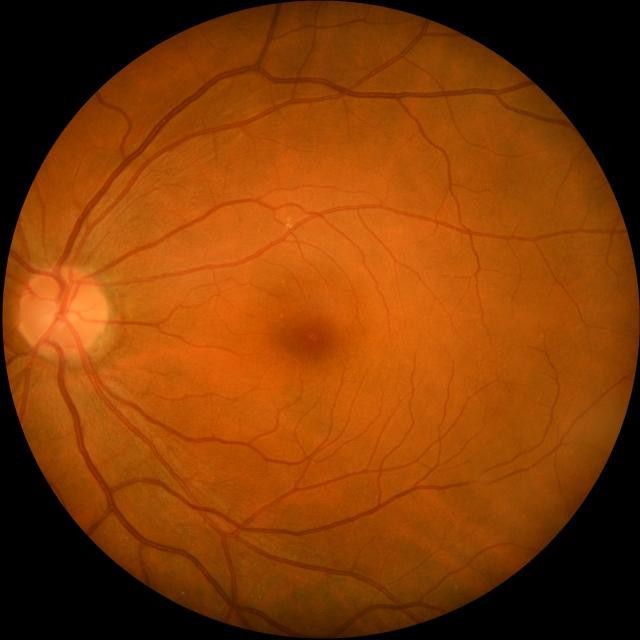OC: (48, 298, 78, 332)
OD: (18, 265, 108, 359)
